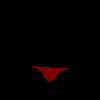mutande: (32, 65, 67, 81)
